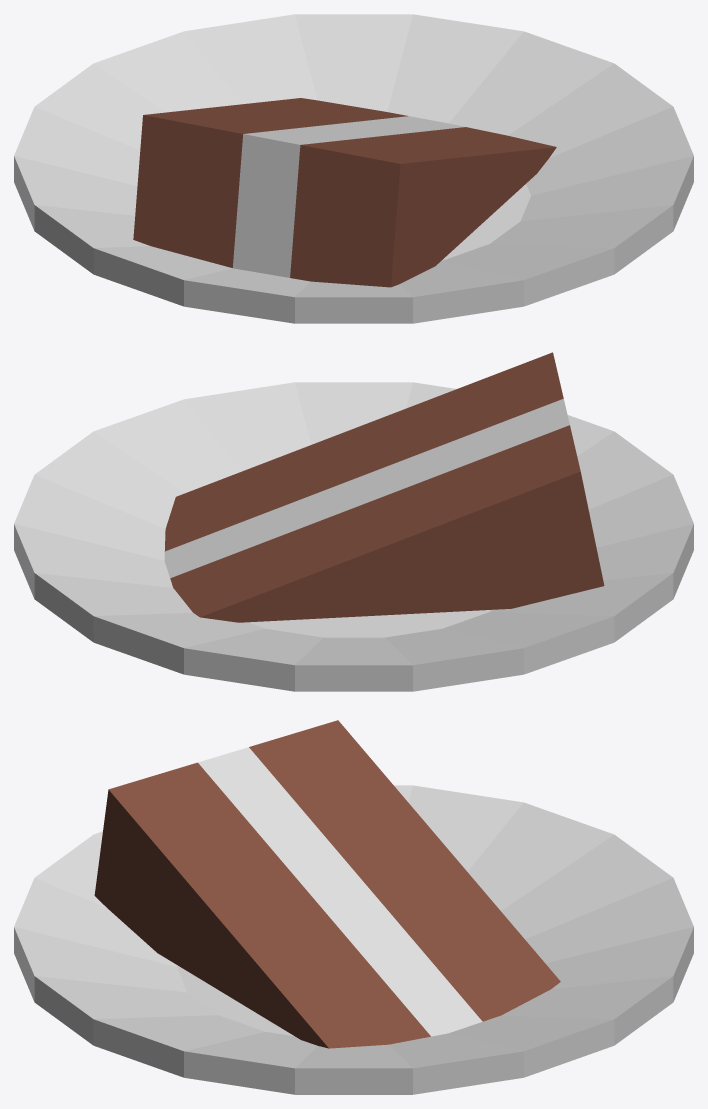
The model's file is SM_foodCake.glb.
The picture shows the model from 3 angles, top to bottom: view 1: azimuth 30°, elevation 25°; view 2: azimuth 150°, elevation 25°; view 3: azimuth 270°, elevation 25°; orthographic projection.
Visible parts, largest first — view 1: SM_foodCake; view 2: SM_foodCake; view 3: SM_foodCake.
Boxes of the visible parts, x1,y1,x2,y2 form: SM_foodCake: [14, 14, 693, 323]; SM_foodCake: [14, 352, 693, 691]; SM_foodCake: [14, 720, 693, 1094].
Bounding box in the file's own units: 0.3604 × 0.0991 × 0.3659.
1 material, 1 textured.
